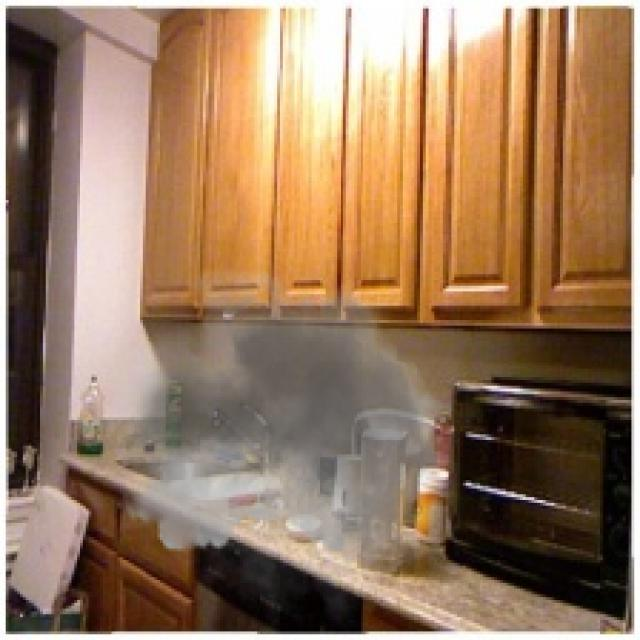smoke: (103, 248, 466, 628)
